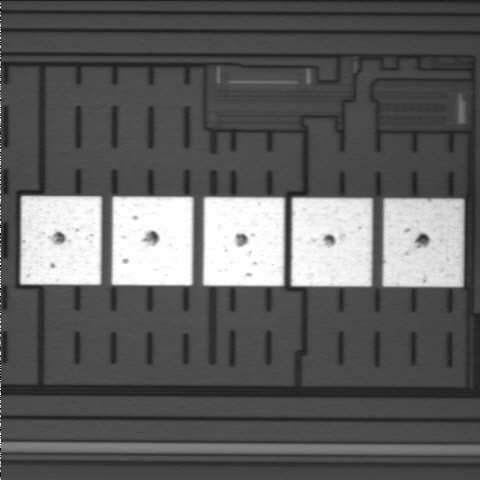pad: (20, 196, 102, 285), (203, 197, 285, 286), (112, 197, 193, 286), (291, 198, 372, 286), (383, 199, 464, 287)
